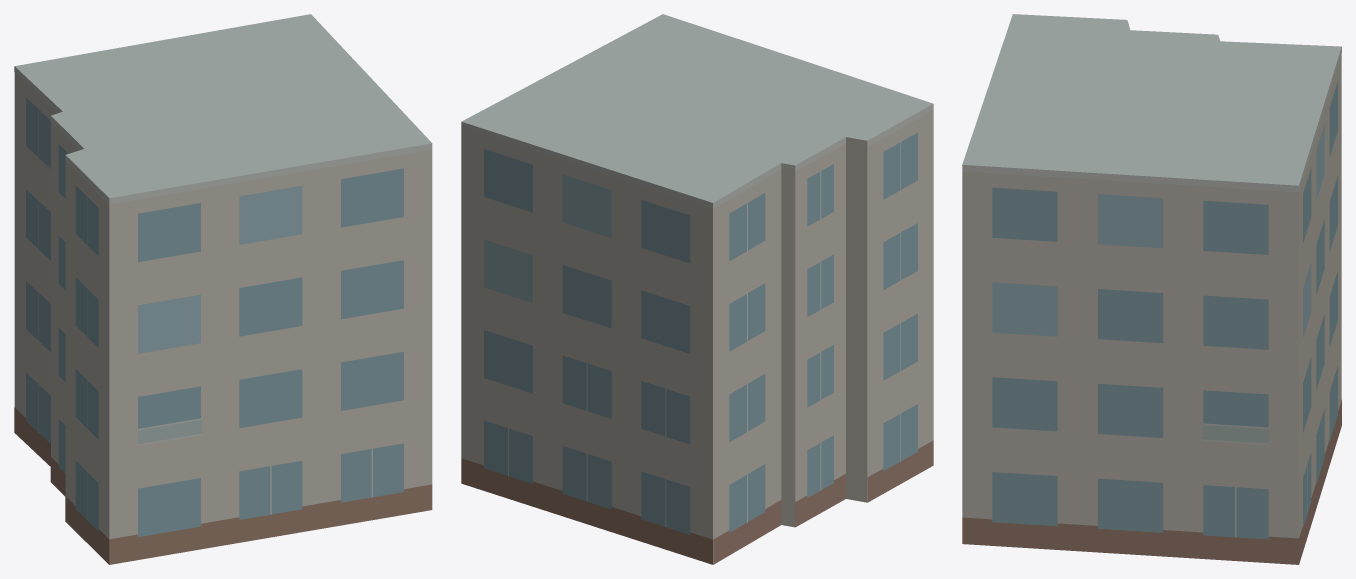
File: survey-upis-32669980.glb
3 views of the same model, side by side, from view 1: azimuth 30°, elevation 25°; view 2: azimuth 150°, elevation 25°; view 3: azimuth 270°, elevation 25° (orthographic). The views are drawn at different scales.
Visible parts, largest first — view 1: survey-upis-32669980.tmp; view 2: survey-upis-32669980.tmp; view 3: survey-upis-32669980.tmp.
Part boxes in pixels (x1,y1,x2,y2): survey-upis-32669980.tmp: [14, 14, 432, 564]; survey-upis-32669980.tmp: [461, 14, 933, 564]; survey-upis-32669980.tmp: [962, 14, 1341, 564].
Size of the model in its own units: 13.7 by 14.1 by 12.8.
